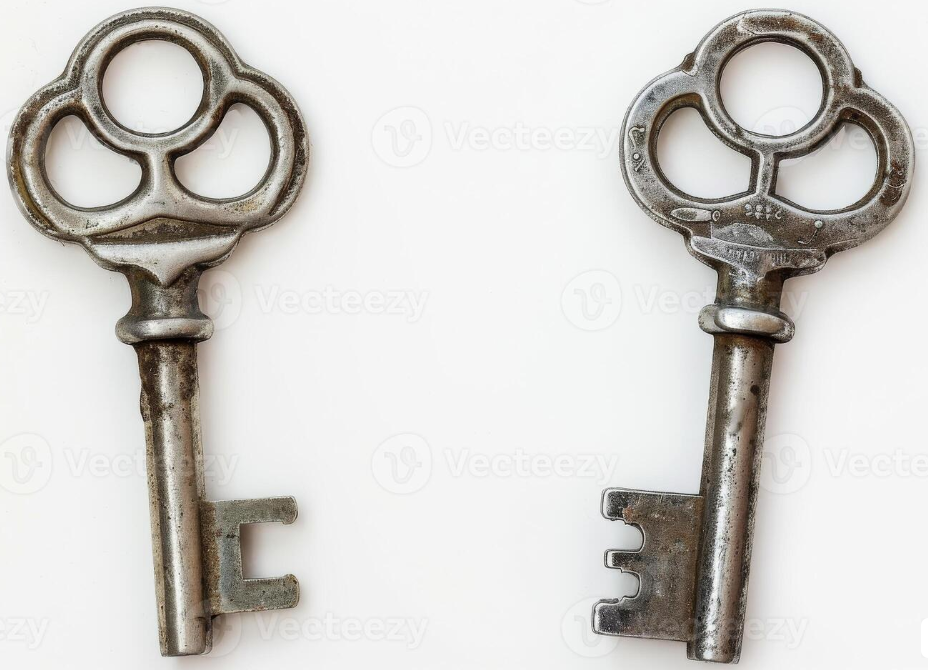Frontdoor keys: (23, 20, 320, 636), (608, 20, 905, 636)
